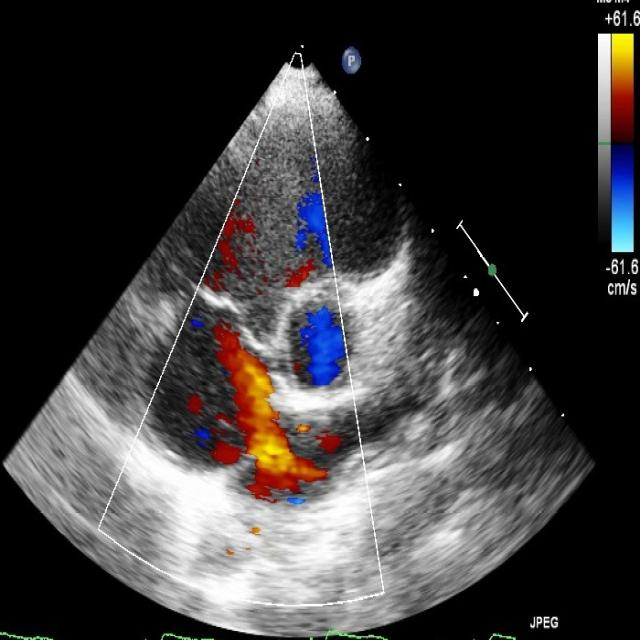ASDType2: (224, 387, 332, 499)
